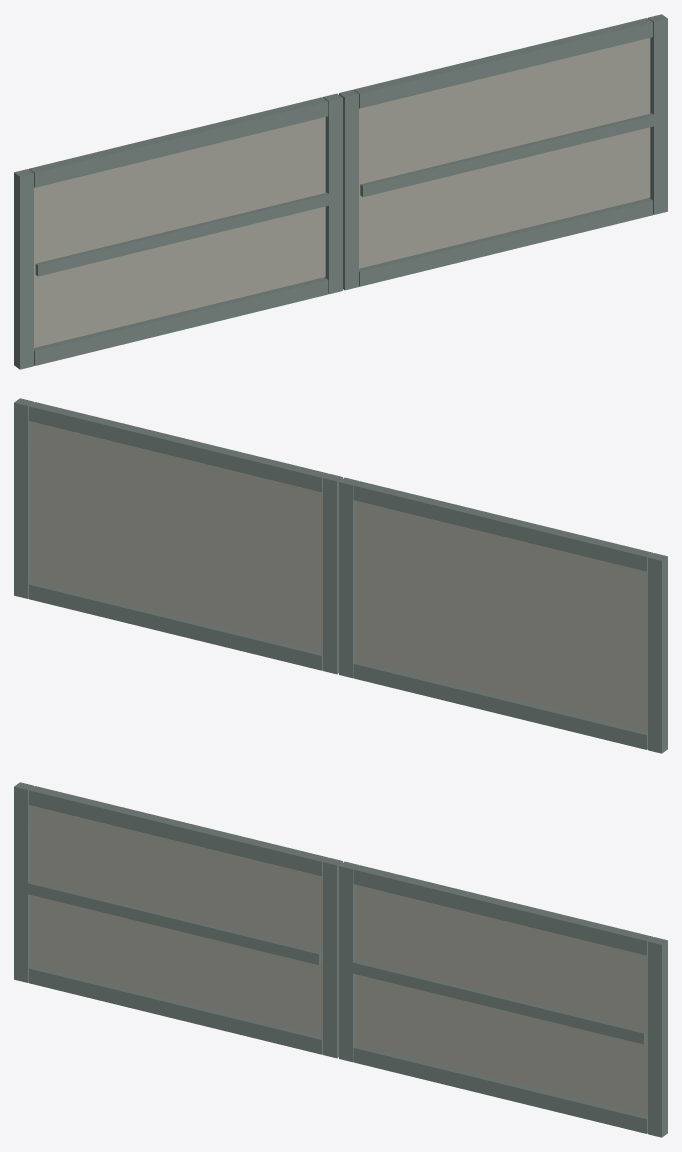
The model's file is SM_PuertaViaDoble_v1_ChapaOndulada_e0_Sano_LOD1.fbx.
3 renders of one model, top to bottom at view 1: azimuth 30°, elevation 25°; view 2: azimuth 150°, elevation 25°; view 3: azimuth 330°, elevation 25°, orthographic.
Visible parts, largest first — view 1: Hoja_O, Hoja_E; view 2: Hoja_O, Hoja_E; view 3: Hoja_E, Hoja_O.
Boxes of the visible parts, bbox=[...] form: Hoja_O: bbox=[14, 93, 342, 369]; Hoja_E: bbox=[339, 14, 667, 290]; Hoja_O: bbox=[339, 477, 667, 753]; Hoja_E: bbox=[14, 398, 342, 674]; Hoja_E: bbox=[339, 861, 667, 1137]; Hoja_O: bbox=[14, 782, 342, 1058].
Size of what is drawn, in the model's own units: 7.38 by 2.1 by 0.165.
